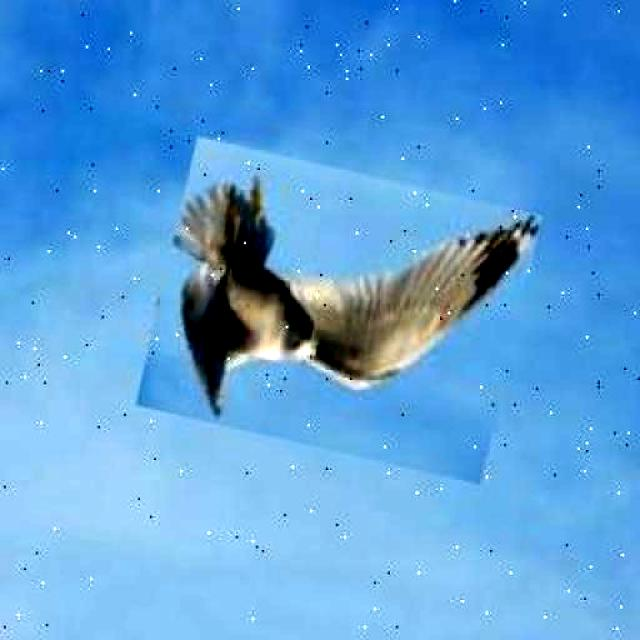airplane: (135, 136, 541, 484)
